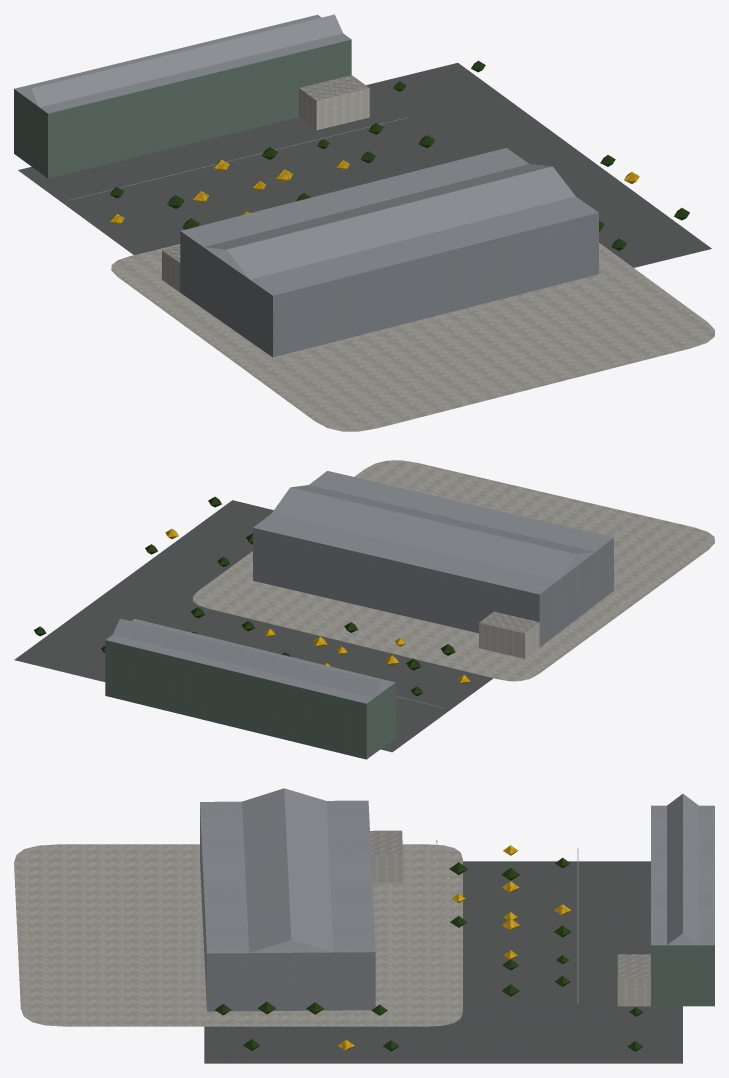
File: cidade_S06_02_lod.gltf
3 views of the same model, one above another, from view 1: azimuth 30°, elevation 25°; view 2: azimuth 150°, elevation 25°; view 3: azimuth 270°, elevation 25° (orthographic). The views are drawn at different scales.
Parts seen in each view (by area): view 1: S06_02_Chao_LOD2, S06_02_Edificios_LOD1, S06_02_Silhueta_LOD2, S06_02_Vegetacao_LOD2; view 2: S06_02_Chao_LOD2, S06_02_Edificios_LOD1, S06_02_Silhueta_LOD2, S06_02_Vegetacao_LOD2; view 3: S06_02_Chao_LOD2, S06_02_Edificios_LOD1, S06_02_Silhueta_LOD2, S06_02_Vegetacao_LOD2.
Part boxes in pixels (<box>): S06_02_Chao_LOD2: <box>18,63,714,431</box>; S06_02_Edificios_LOD1: <box>14,14,598,357</box>; S06_02_Silhueta_LOD2: <box>14,14,598,356</box>; S06_02_Vegetacao_LOD2: <box>110,60,689,250</box>; S06_02_Chao_LOD2: <box>14,460,714,752</box>; S06_02_Edificios_LOD1: <box>105,485,613,759</box>; S06_02_Silhueta_LOD2: <box>105,471,613,758</box>; S06_02_Vegetacao_LOD2: <box>34,496,469,695</box>; S06_02_Chao_LOD2: <box>14,844,682,1063</box>; S06_02_Edificios_LOD1: <box>200,788,714,1011</box>; S06_02_Silhueta_LOD2: <box>200,800,714,1011</box>; S06_02_Vegetacao_LOD2: <box>215,845,643,1051</box>.
Bounding box in the file's own units: 109 × 17.03 × 146.
9 materials, 9 textured.
